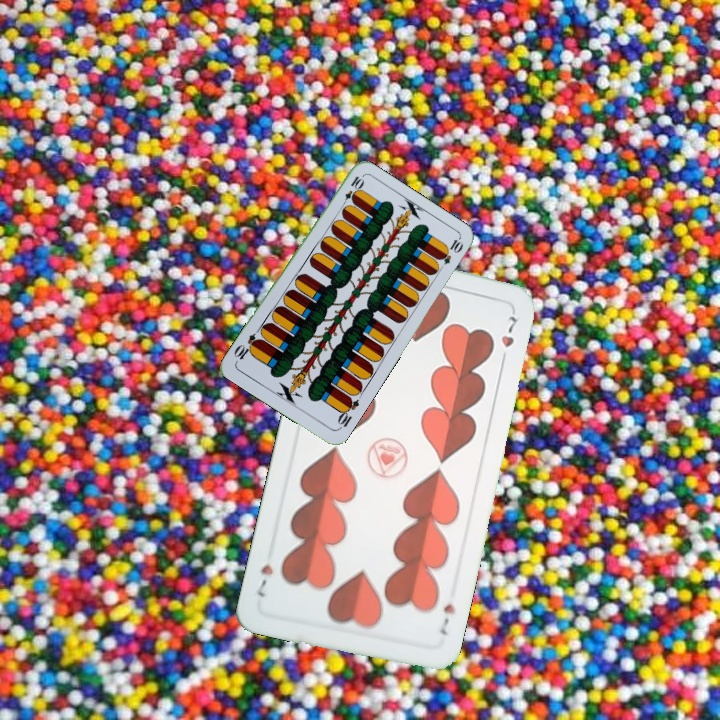E10: (333, 393, 362, 432), (338, 172, 366, 210)
H7: (435, 599, 458, 638)
